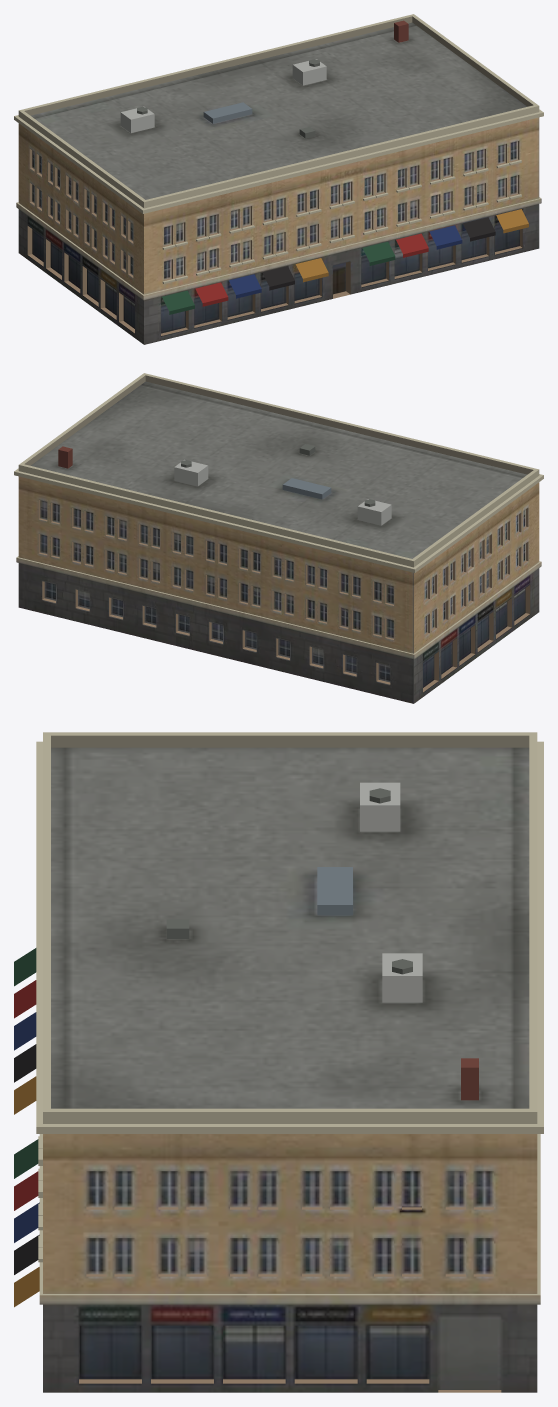
Rendered from seattle_belltown_a.glb.
3 views of the same model, one above another, from view 1: azimuth 30°, elevation 25°; view 2: azimuth 150°, elevation 25°; view 3: azimuth 270°, elevation 25° (orthographic). The views are drawn at different scales.
Visible parts, largest first — view 1: seattle_belltown_a; view 2: seattle_belltown_a; view 3: seattle_belltown_a.
Boxes of the visible parts, x1,y1,x2,y2 form: seattle_belltown_a: (14, 14, 543, 344); seattle_belltown_a: (14, 373, 543, 703); seattle_belltown_a: (14, 732, 543, 1392).
Bounding box in the file's own units: 40.6 × 14.8 × 23.6.
Materials: 1 (1 with a texture image).
